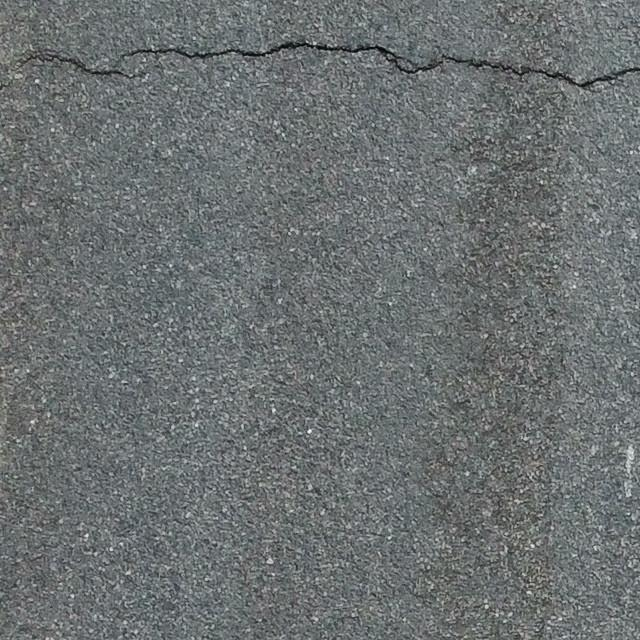TransverseCrack: (20, 40, 640, 90)
